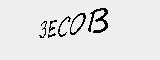В: (87, 8, 112, 35)
Е: (47, 19, 56, 39)
З: (38, 19, 47, 39)
О: (68, 10, 85, 35)
С: (58, 16, 70, 38)
